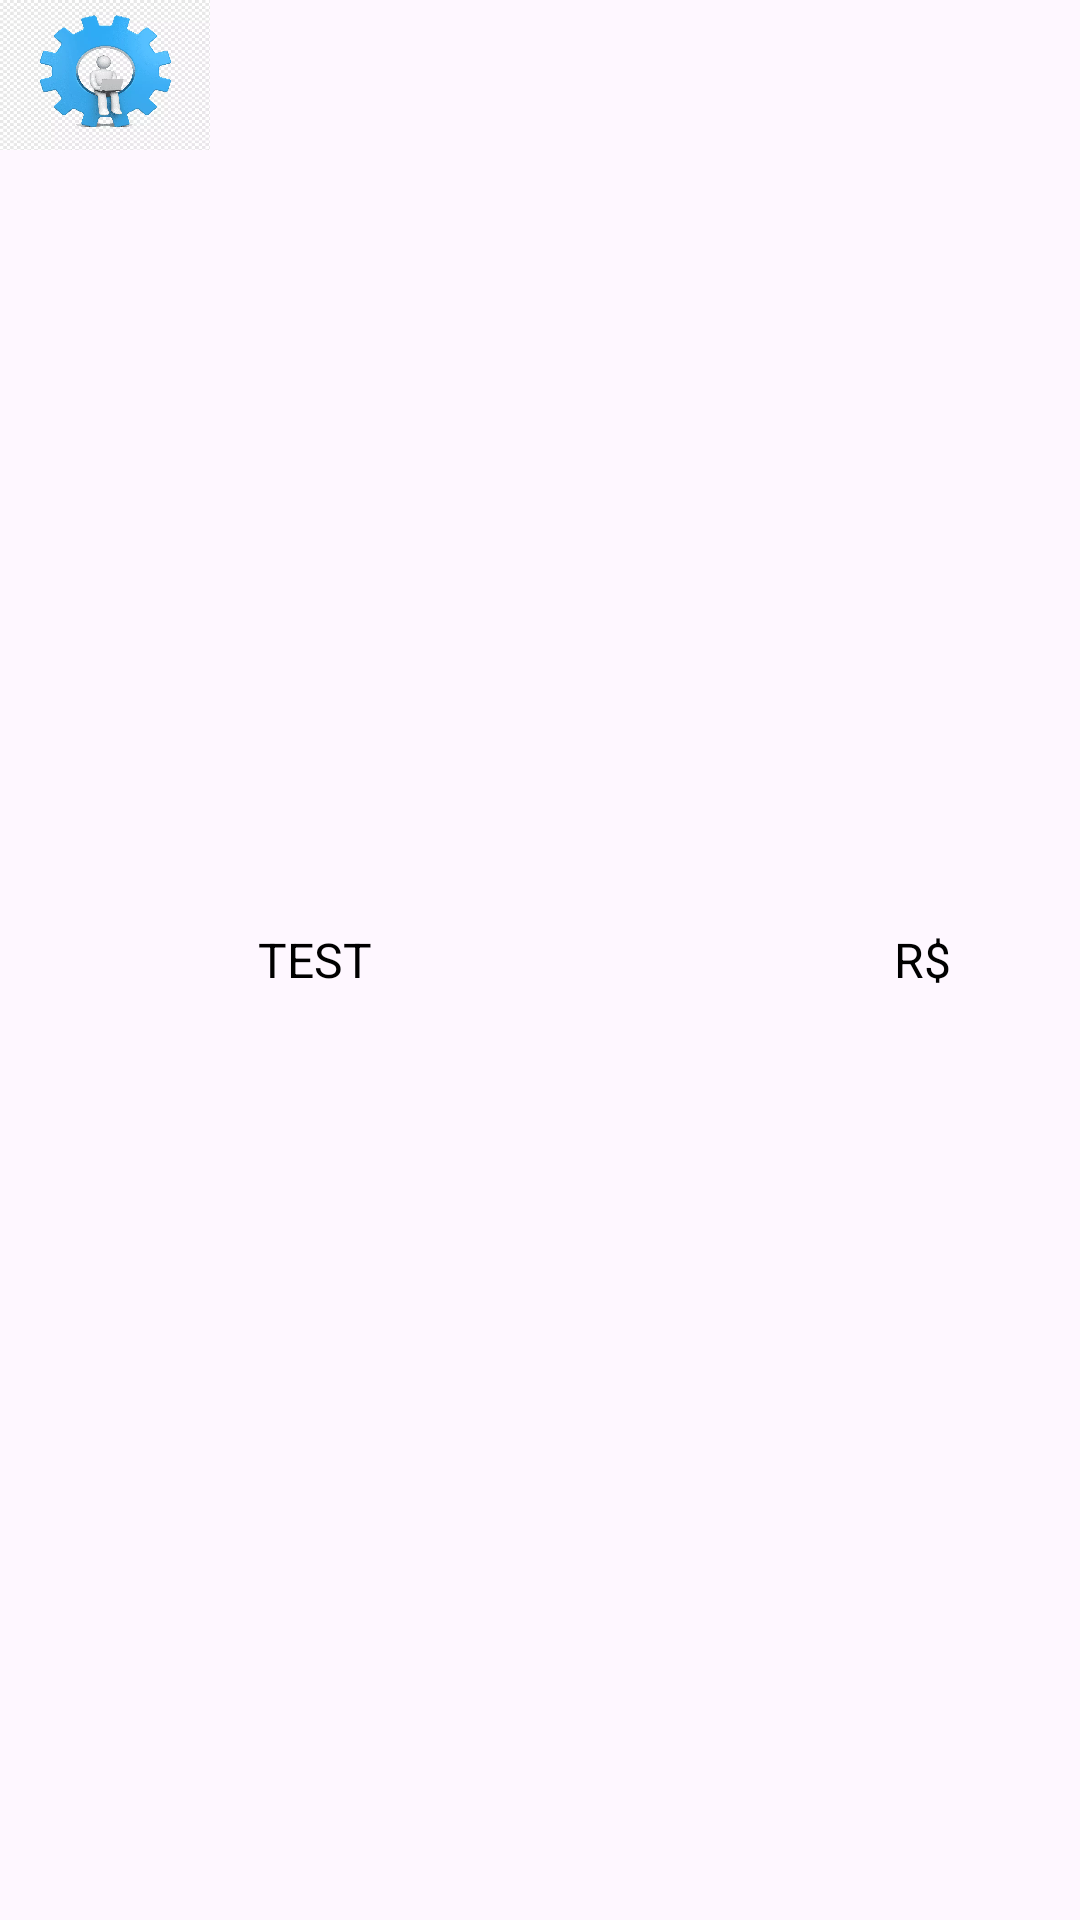

Icons on this 1080px×1920px Android screen, each with its box as box(x1, y1, x2, y2):
build: box(0, 0, 210, 150)
